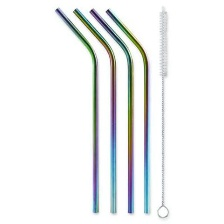drinking_straw: (49, 4, 102, 216), (103, 4, 155, 217)
